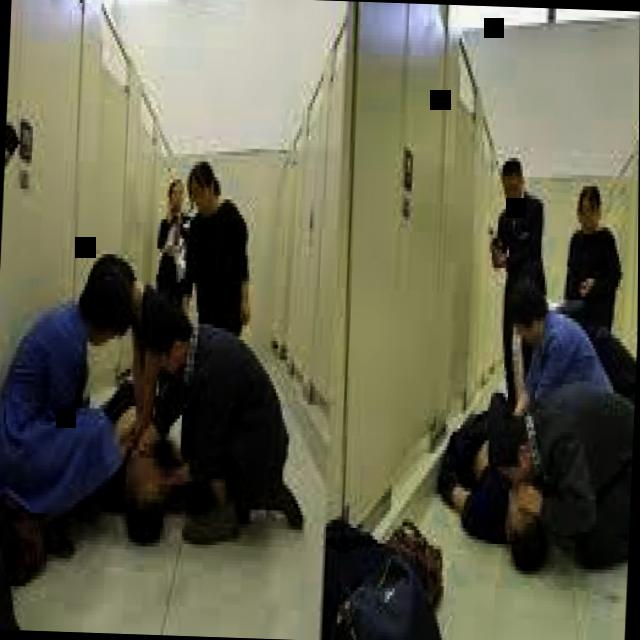Fall-Detected: (92, 375, 189, 529)
